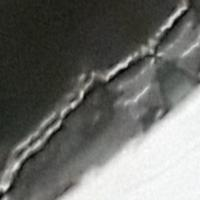crack: (0, 0, 187, 199)
